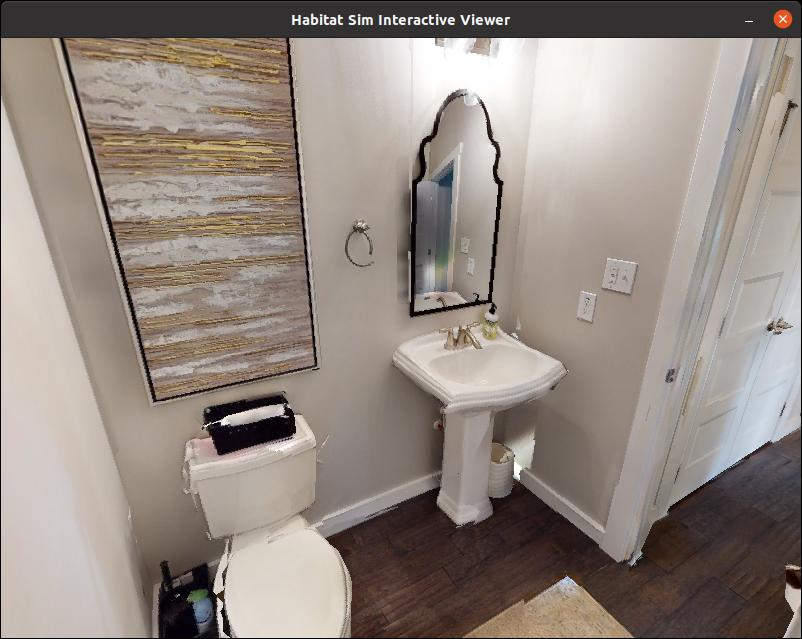sink: (375, 315, 572, 551)
toilet: (189, 385, 365, 639)
